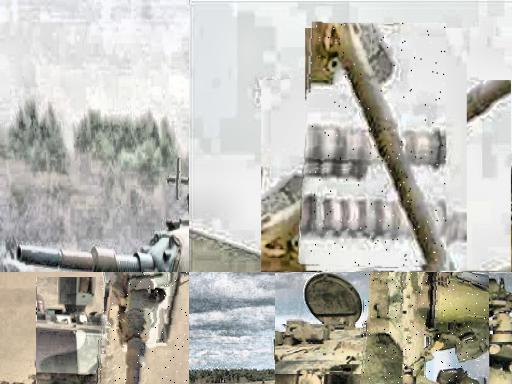tanks: (311, 24, 447, 268), (365, 273, 489, 384), (19, 194, 190, 273), (100, 273, 190, 384), (177, 159, 181, 200)
